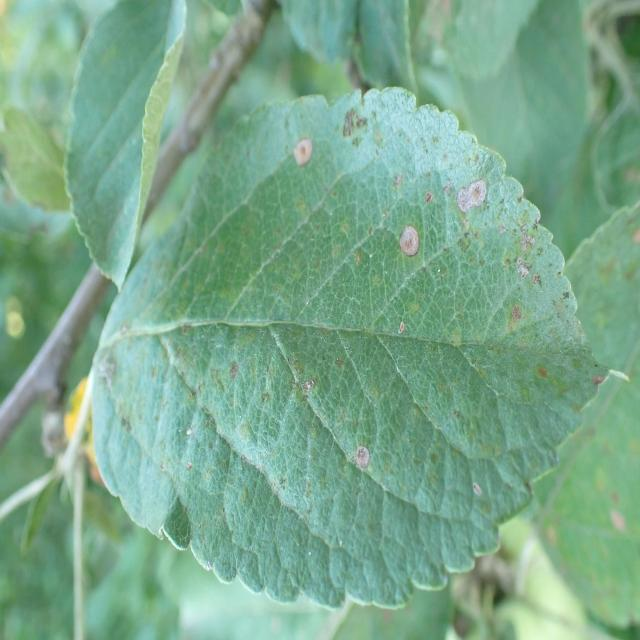frog-eye-leaf-spot: (92, 85, 620, 610)
